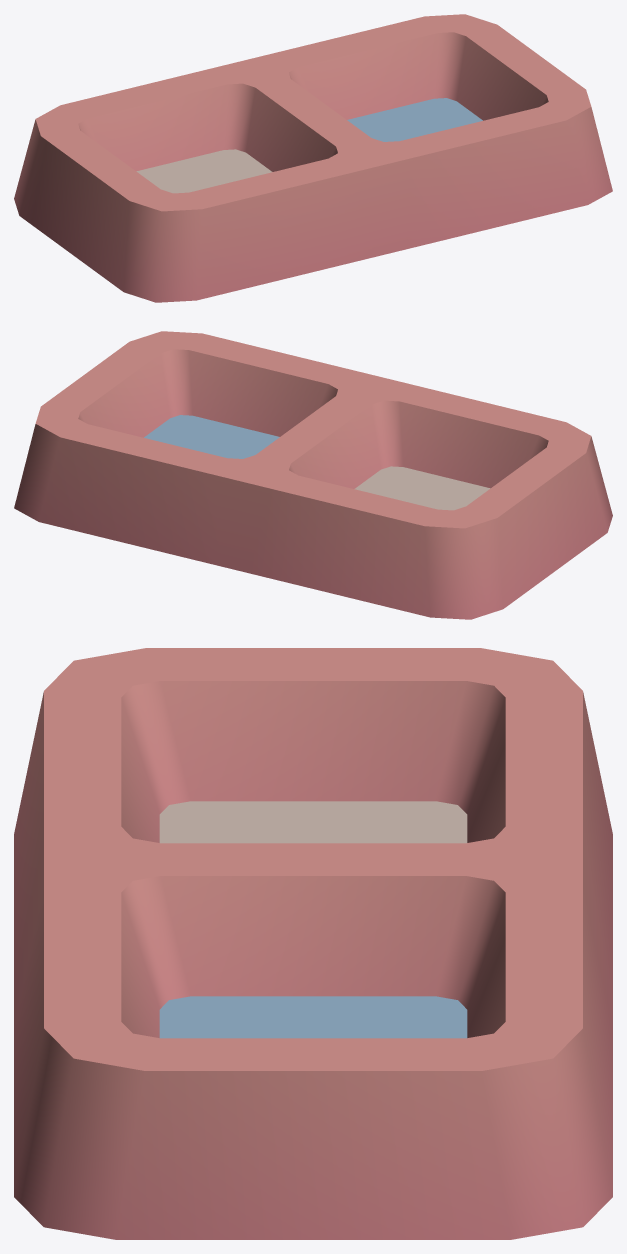
File: pet-food-square-double.glb
The picture shows the model from 3 angles, top to bottom: view 1: azimuth 30°, elevation 25°; view 2: azimuth 150°, elevation 25°; view 3: azimuth 270°, elevation 25°; orthographic projection. The views are drawn at different scales.
Visible parts, largest first — view 1: pet-food-square-double; view 2: pet-food-square-double; view 3: pet-food-square-double.
Boxes of the visible parts, x1,y1,x2,y2 form: pet-food-square-double: [14, 14, 612, 302]; pet-food-square-double: [14, 331, 612, 619]; pet-food-square-double: [14, 648, 612, 1239].
Size of the model in its own units: 0.5312 by 0.0862 by 0.3.
